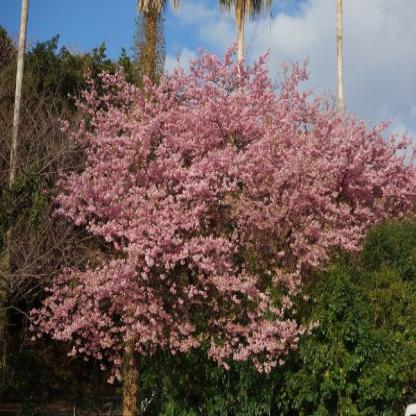KawazuSakura: (27, 34, 415, 404)
